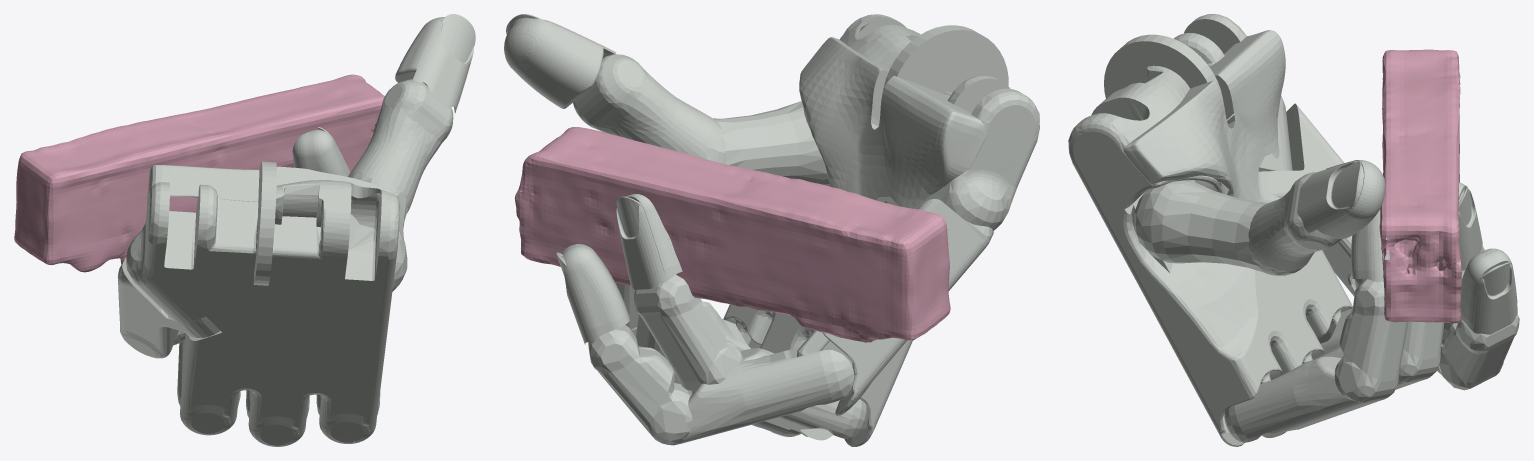
3 renders of one model, left to right at view 1: azimuth 30°, elevation 25°; view 2: azimuth 150°, elevation 25°; view 3: azimuth 270°, elevation 25°, orthographic. The views are drawn at different scales.
Parts seen in each view (by area): view 1: hand, world; view 2: hand, world; view 3: hand, world.
Part boxes in pixels (x1,y1,x2,y2): hand: (117,14,475,446); world: (14,74,384,272); hand: (504,14,1039,446); world: (514,127,950,342); hand: (1068,14,1519,446); world: (1379,49,1461,323).
Size of the model in its own units: 0.1515 by 0.1229 by 0.1364.
